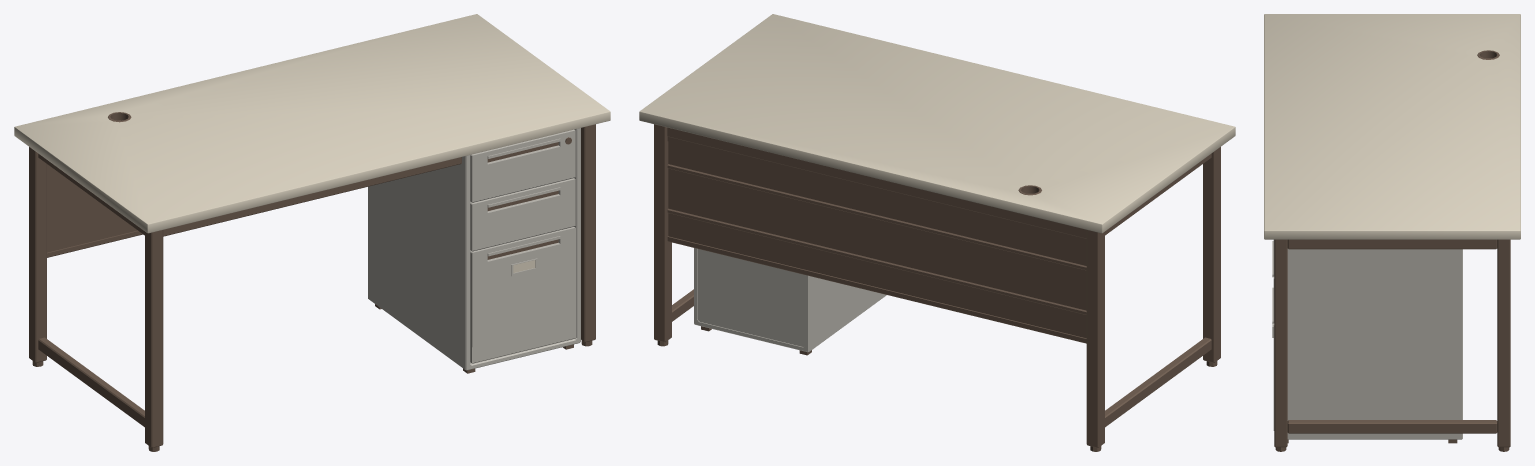
File: Kit_OfficeDesk.fbx
The picture shows the model from 3 angles, left to right: view 1: azimuth 30°, elevation 25°; view 2: azimuth 150°, elevation 25°; view 3: azimuth 270°, elevation 25°; orthographic projection. The views are drawn at different scales.
Parts seen in each view (by area): view 1: Kit_OfficeDesk_LOD0; view 2: Kit_OfficeDesk_LOD0; view 3: Kit_OfficeDesk_LOD0.
Boxes of the visible parts, <box> form: Kit_OfficeDesk_LOD0: <box>14,14,610,451</box>; Kit_OfficeDesk_LOD0: <box>639,14,1235,451</box>; Kit_OfficeDesk_LOD0: <box>1264,14,1520,451</box>.
Size of what is drawn, in the model's own units: 1.52 by 0.7412 by 0.762.
